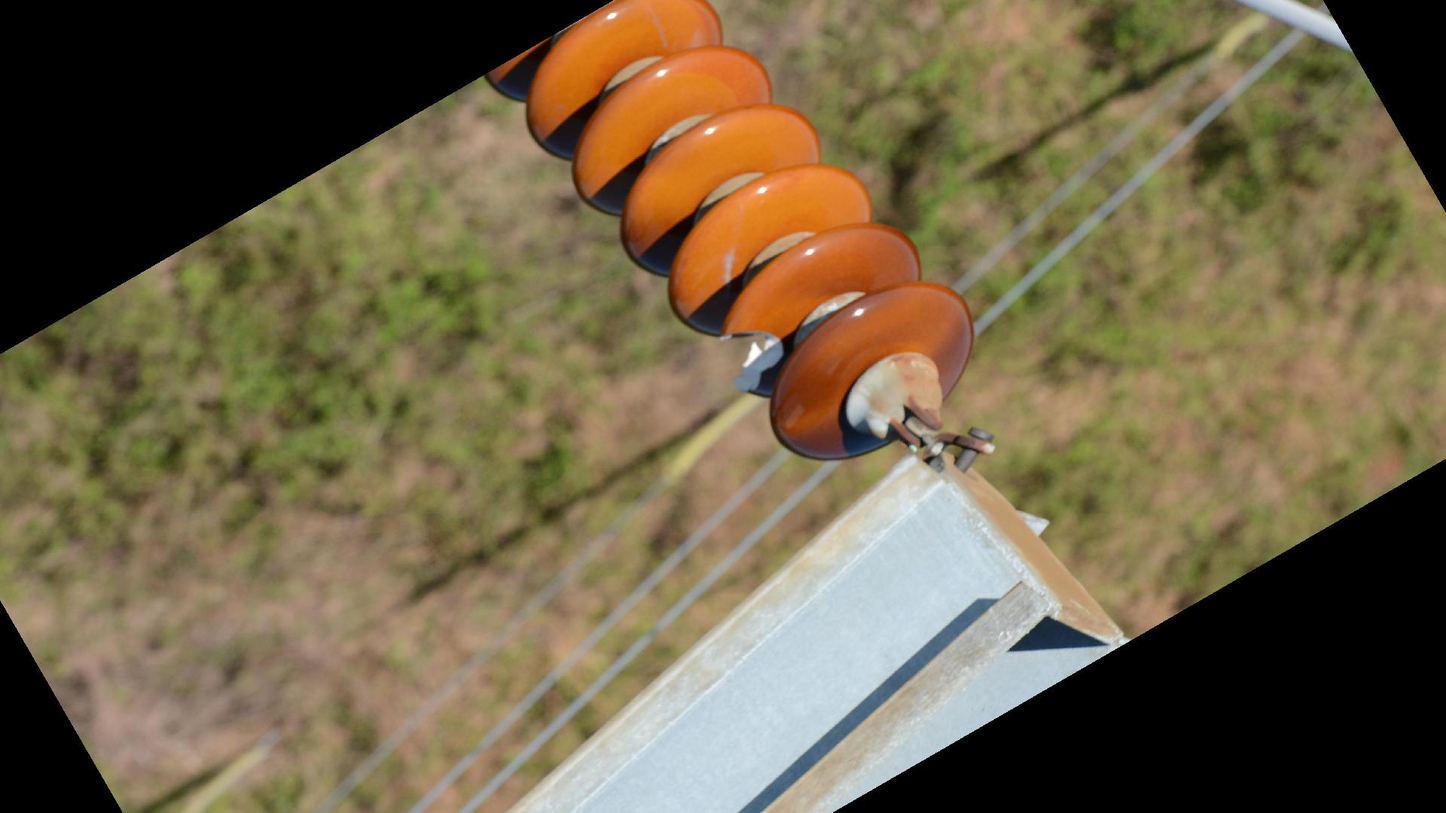insulator: (471, 1, 984, 469)
insulator_breakage: (710, 320, 789, 398)
